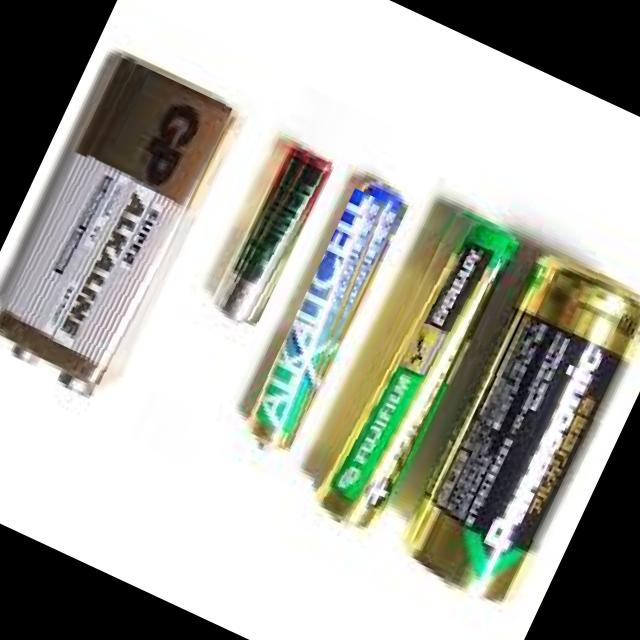Hazard: (408, 261, 640, 601), (4, 73, 220, 375), (321, 228, 504, 509), (261, 195, 372, 445), (219, 153, 319, 324)
